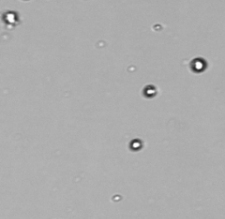Living Cell: (190, 57, 207, 72), (3, 10, 17, 26), (144, 85, 156, 97), (130, 139, 143, 150)
